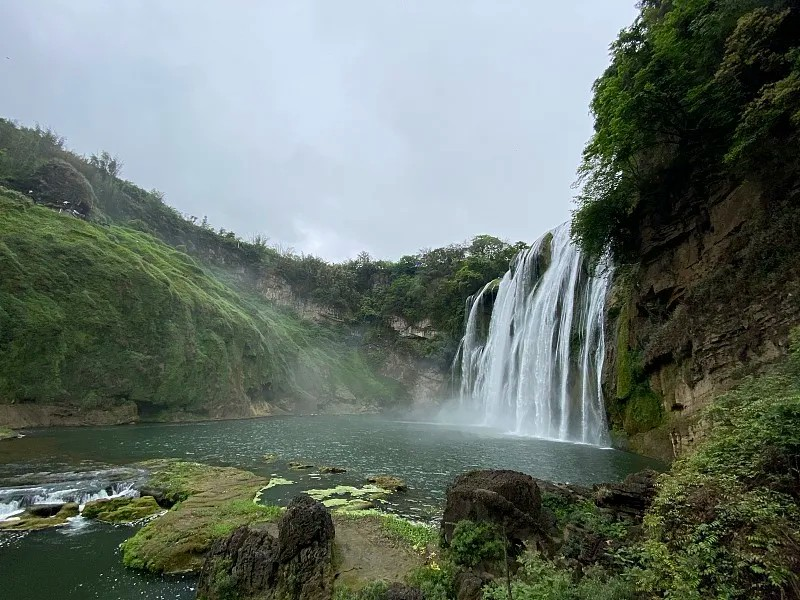Huangguoshu: (446, 221, 608, 448)
